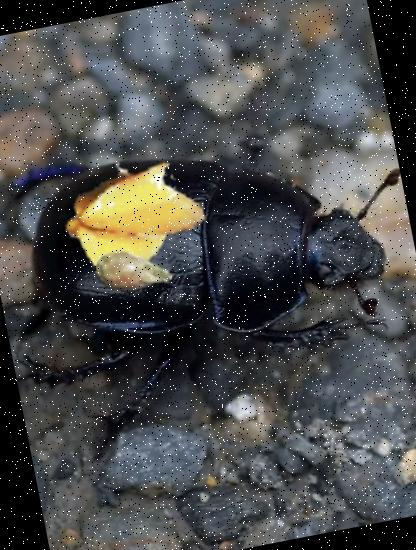Cactus: (89, 228, 178, 318)
Carambula: (50, 132, 214, 296)
